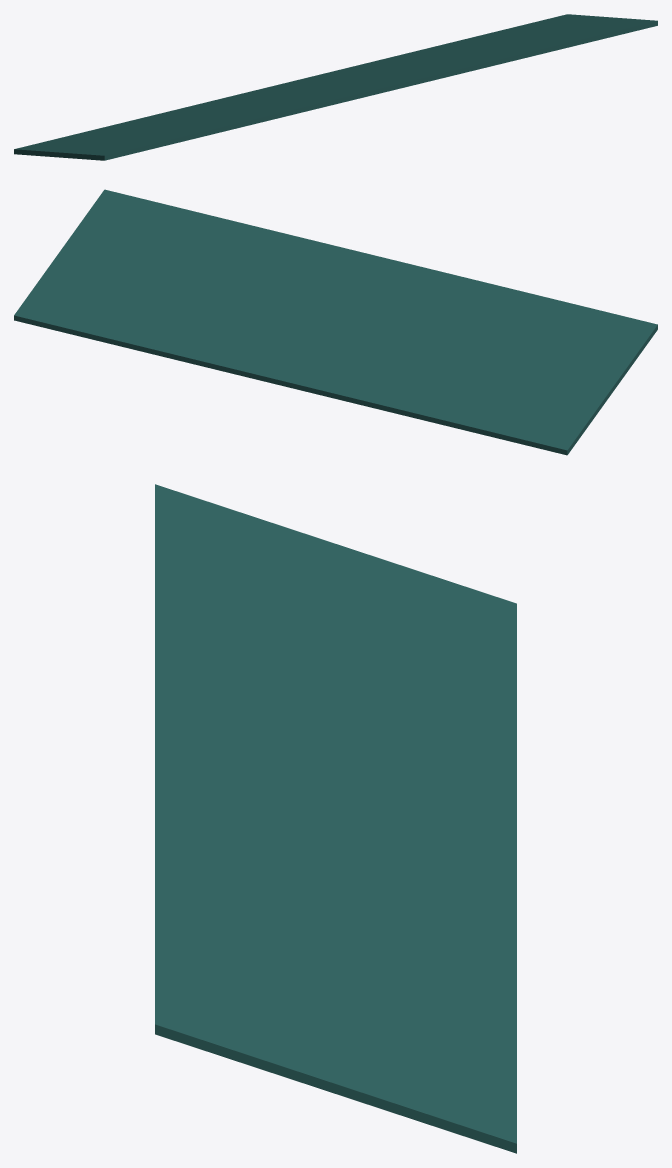
3 renders of one model, top to bottom at view 1: azimuth 30°, elevation 25°; view 2: azimuth 150°, elevation 25°; view 3: azimuth 270°, elevation 25°, orthographic. The views are drawn at different scales.
Visible parts, largest first — view 1: ROOF-A2-2; view 2: ROOF-A2-2; view 3: ROOF-A2-2.
Part boxes in pixels (left/top/right/bottom): ROOF-A2-2: left=14, top=14, right=657, bottom=160; ROOF-A2-2: left=14, top=189, right=657, bottom=455; ROOF-A2-2: left=155, top=484, right=516, bottom=1153.
Bounding box in the file's own units: 9.25 × 1.03 × 2.62.
